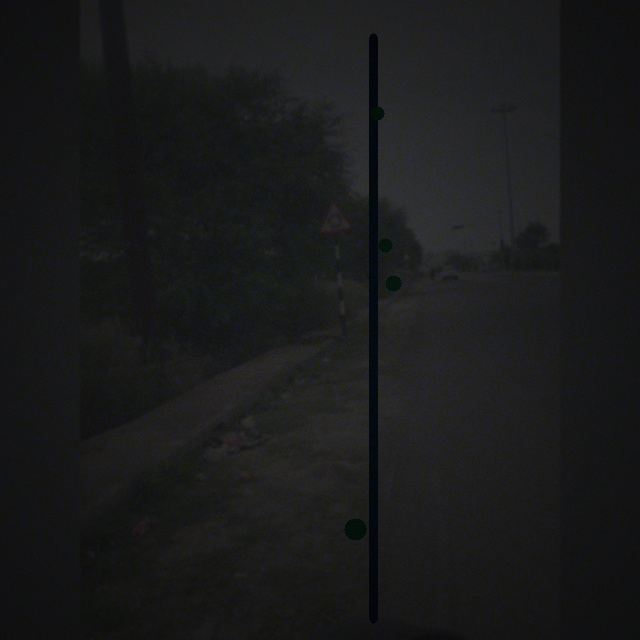Round_About: (312, 191, 364, 236)
